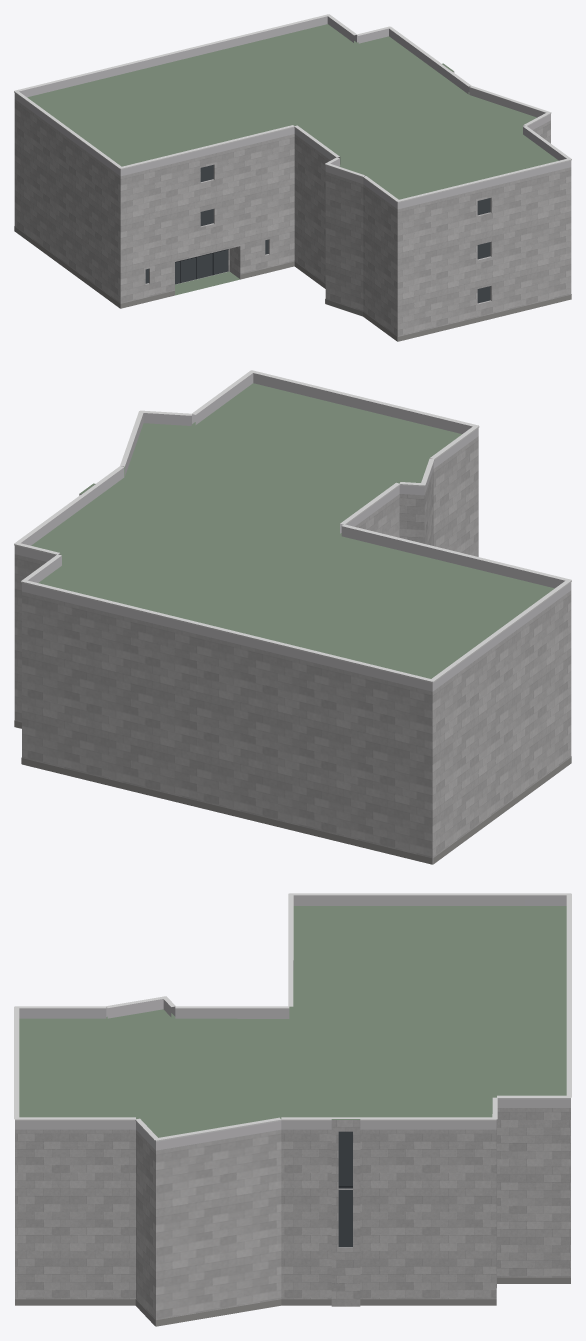
The picture shows the model from 3 angles, top to bottom: view 1: azimuth 30°, elevation 25°; view 2: azimuth 150°, elevation 25°; view 3: azimuth 270°, elevation 25°; orthographic projection. The views are drawn at different scales.
Visible parts, largest first — view 1: museum__wall, museum__roof, museum__parapet, museum__trim, museum__base, museum__glass; view 2: museum__wall, museum__roof, museum__parapet, museum__trim, museum__base; view 3: museum__wall, museum__roof, museum__parapet, museum__trim, museum__base, museum__glass.
Part boxes in pixels (box(x1,y1,x2,y2)): museum__wall: box(14, 71, 571, 341); museum__roof: box(27, 24, 558, 341); museum__parapet: box(14, 16, 571, 209); museum__trim: box(14, 14, 571, 202); museum__base: box(14, 226, 571, 341); museum__glass: box(145, 165, 490, 303); museum__wall: box(14, 436, 571, 864); museum__roof: box(31, 383, 554, 864); museum__parapet: box(14, 373, 571, 691); museum__trim: box(14, 370, 571, 682); museum__base: box(14, 720, 571, 864); museum__wall: box(15, 1108, 570, 1325); museum__roof: box(19, 906, 566, 1326); museum__parapet: box(15, 895, 570, 1150); museum__trim: box(14, 893, 571, 1141); museum__base: box(15, 1277, 570, 1326); museum__glass: box(338, 1131, 352, 1247).
Bounding box in the file's own units: 40.74 × 14.35 × 38.84.
8 materials, 1 textured.
